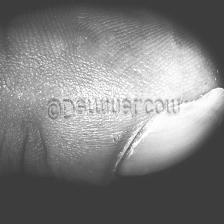Toxin: (46, 20, 212, 94), (43, 118, 177, 160)
